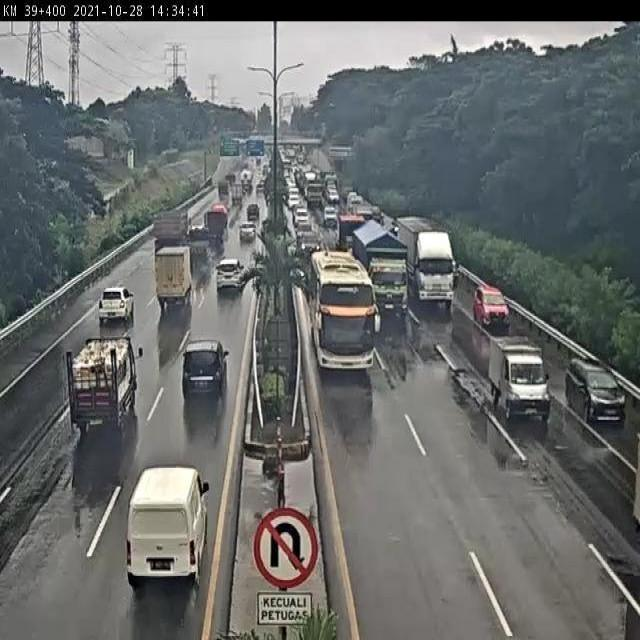big bus: (306, 250, 382, 374)
big truck: (368, 232, 416, 331), (412, 228, 458, 323), (151, 196, 192, 252)
car: (116, 467, 225, 593), (489, 336, 553, 439), (172, 328, 236, 415), (84, 268, 149, 343), (563, 359, 627, 433), (206, 245, 253, 318), (474, 279, 515, 332)
small truck: (65, 329, 143, 435), (607, 400, 640, 565), (142, 235, 201, 320)
